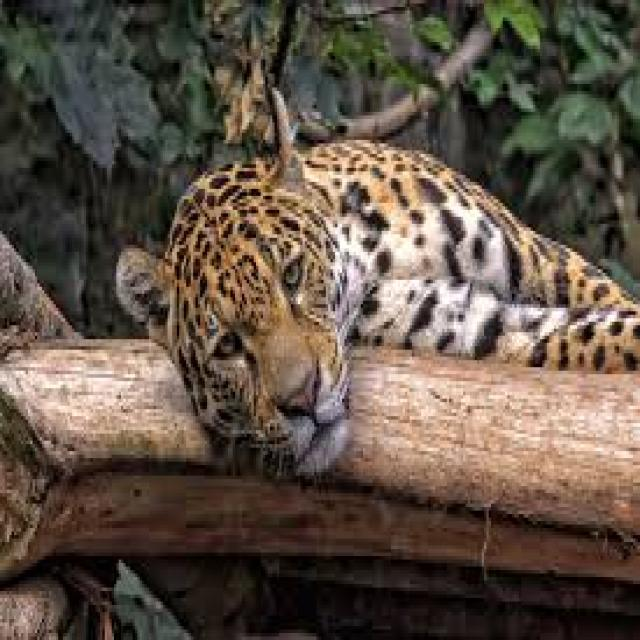Jaguar: (123, 126, 640, 448)
